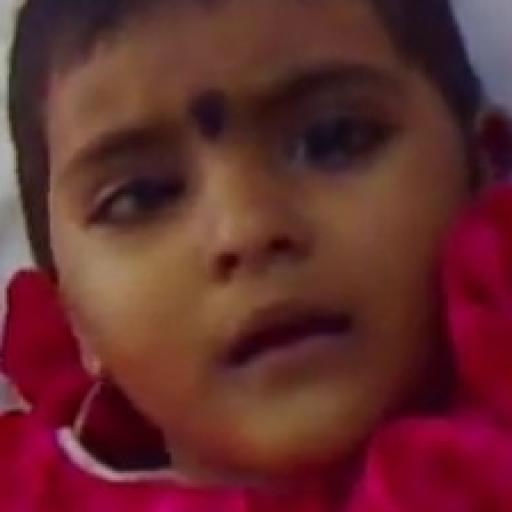Autism: (21, 22, 478, 442)
